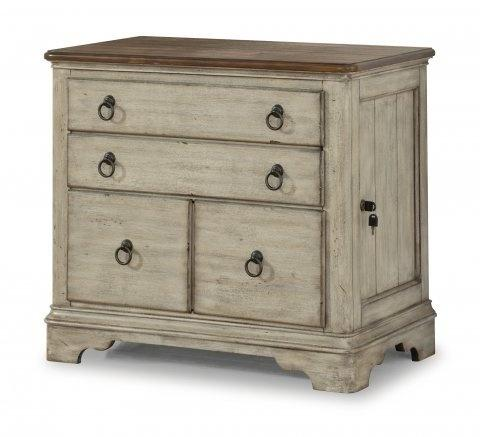cabinet_door: (71, 79, 324, 144), (71, 139, 324, 201), (192, 207, 322, 325), (68, 194, 186, 311)
handle: (242, 247, 266, 283), (114, 238, 136, 272), (263, 162, 285, 194), (264, 103, 285, 133), (97, 152, 117, 182), (96, 95, 117, 123)
